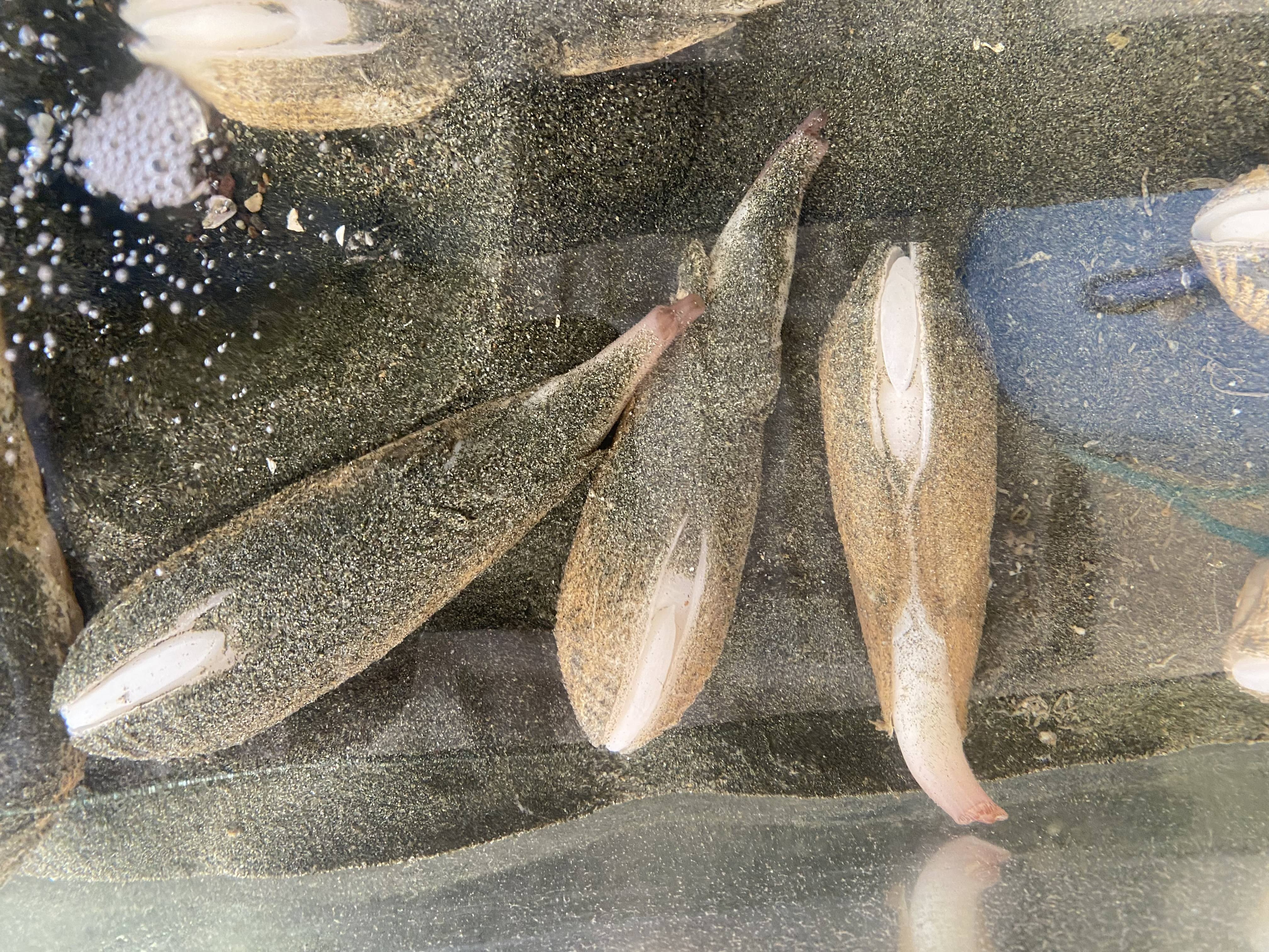Healthy: (53, 301, 699, 758), (555, 113, 826, 752), (819, 243, 1007, 824)
